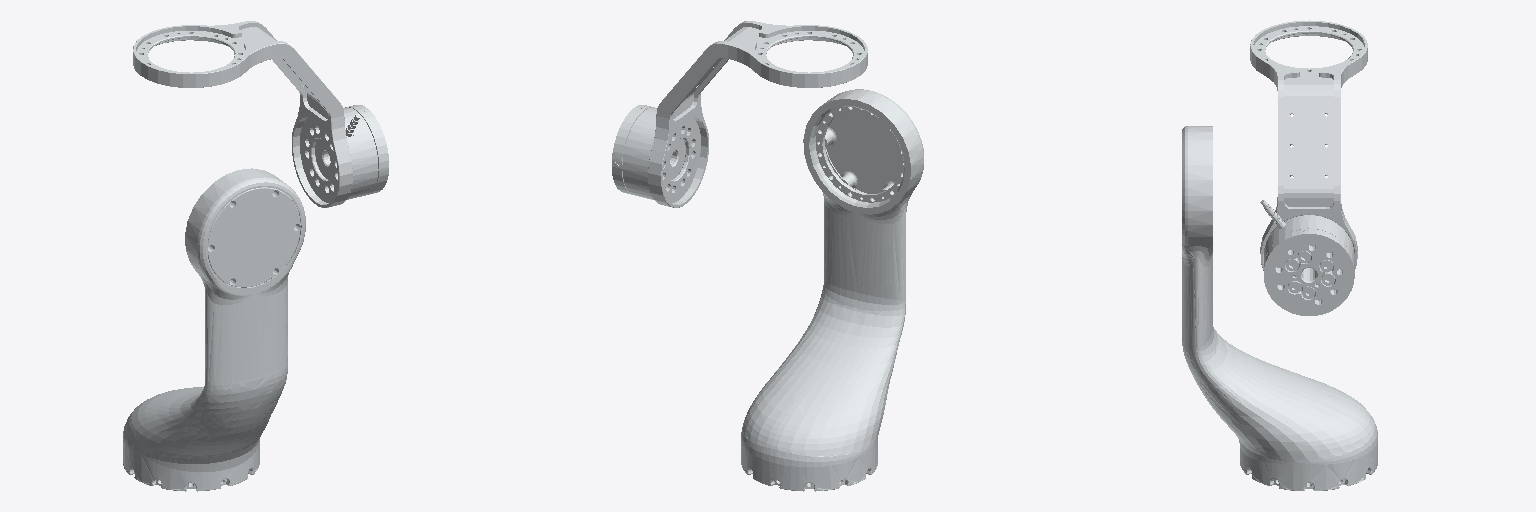
robot.urdf — armmodel:
<?xml version="1.0" encoding="utf-8"?>
<!-- This URDF was automatically created by SolidWorks to URDF Exporter! Originally created by [author] ([email redacted]) 
     Commit Version: 1.6.0-1-g15f4949  Build Version: 1.6.7594.29634
     For more information, please see http://wiki.ros.org/sw_urdf_exporter -->
<robot
  name="armmodel">
  <link
    name="base_link">
    <inertial>
      <origin
        xyz="6.6181E-05 -0.00015161 -0.19249"
        rpy="0 0 0" />
      <mass
        value="1.2116" />
      <inertia
        ixx="0.0019567"
        ixy="3.2695E-06"
        ixz="-6.4571E-07"
        iyy="0.0019617"
        iyz="-1.5111E-06"
        izz="0.0030011" />
    </inertial>
    <visual>
      <origin
        xyz="0 0 0"
        rpy="0 0 0" />
      <geometry>
        <mesh
          filename="package://armmodel/meshes/base_link.dae" />
      </geometry>
      <material
        name="">
        <color
          rgba="0.89804 0.91765 0.92941 1" />
      </material>
    </visual>
    <collision>
      <origin
        xyz="0 0 0"
        rpy="0 0 0" />
      <geometry>
        <mesh
          filename="package://armmodel/meshes/base_link.dae" />
      </geometry>
    </collision>
  </link>
  <link
    name="link1">
    <inertial>
      <origin
        xyz="7.2718E-05 -0.029092 -0.030082"
        rpy="0 0 0" />
      <mass
        value="1.3993" />
      <inertia
        ixx="0.0039418"
        ixy="-1.3252E-07"
        ixz="1.2424E-06"
        iyy="0.0042042"
        iyz="0.0010239"
        izz="0.0027112" />
    </inertial>
    <visual>
      <origin
        xyz="0 0 0"
        rpy="0 0 0" />
      <geometry>
        <mesh
          filename="package://armmodel/meshes/link1.dae" />
      </geometry>
      <material
        name="">
        <color
          rgba="0.89804 0.91765 0.92941 1" />
      </material>
    </visual>
    <collision>
      <origin
        xyz="0 0 0"
        rpy="0 0 0" />
      <geometry>
        <mesh
          filename="package://armmodel/meshes/link1.dae" />
      </geometry>
    </collision>
  </link>
  <joint
    name="armjoint1"
    type="revolute">
    <origin
      xyz="0 0 0"
      rpy="0 0 0" />
    <parent
      link="base_link" />
    <child
      link="link1" />
    <axis
      xyz="0 0 1" />
    <limit
      lower="-2.967"
      upper="2.967"
      effort="0"
      velocity="0" />
  </joint>
  <link
    name="link2">
    <inertial>
      <origin
        xyz="3.216E-05 0.11921 -0.01045"
        rpy="0 0 0" />
      <mass
        value="1.4639" />
      <inertia
        ixx="0.0063672"
        ixy="-4.7491E-07"
        ixz="7.5063E-07"
        iyy="0.0026746"
        iyz="-0.00050689"
        izz="0.0069259" />
    </inertial>
    <visual>
      <origin
        xyz="0 0 0"
        rpy="0 0 0" />
      <geometry>
        <mesh
          filename="package://armmodel/meshes/link2.dae" />
      </geometry>
      <material
        name="">
        <color
          rgba="0.89804 0.91765 0.92941 1" />
      </material>
    </visual>
    <collision>
      <origin
        xyz="0 0 0"
        rpy="0 0 0" />
      <geometry>
        <mesh
          filename="package://armmodel/meshes/link2.dae" />
      </geometry>
    </collision>
  </link>
  <joint
    name="armjoint2"
    type="revolute">
    <origin
      xyz="0 0 0"
      rpy="1.5708 0 0" />
    <parent
      link="link1" />
    <child
      link="link2" />
    <axis
      xyz="0 0 1" />
    <limit
      lower="-2.094"
      upper="2.094"
      effort="0"
      velocity="0" />
  </joint>
  <link
    name="link3">
    <inertial>
      <origin
        xyz="0.019368 -0.020584 -0.051775"
        rpy="0 0 0" />
      <mass
        value="1.1787" />
      <inertia
        ixx="0.005941"
        ixy="7.5907E-05"
        ixz="-0.00070134"
        iyy="0.0064945"
        iyz="0.00076789"
        izz="0.0019242" />
    </inertial>
    <visual>
      <origin
        xyz="0 0 0"
        rpy="0 0 0" />
      <geometry>
        <mesh
          filename="package://armmodel/meshes/link3.dae" />
      </geometry>
      <material
        name="">
        <color
          rgba="0.89804 0.91765 0.92941 1" />
      </material>
    </visual>
    <collision>
      <origin
        xyz="0 0 0"
        rpy="0 0 0" />
      <geometry>
        <mesh
          filename="package://armmodel/meshes/link3.dae" />
      </geometry>
    </collision>
  </link>
  <joint
    name="armjoint3"
    type="revolute">
    <origin
      xyz="0 0.4495 0"
      rpy="-1.5708 0 0" />
    <parent
      link="link2" />
    <child
      link="link3" />
    <axis
      xyz="0 0 1" />
    <limit
      lower="-2.967"
      upper="2.967"
      effort="0"
      velocity="0" />
  </joint>
  <link
    name="link4">
    <inertial>
      <origin
        xyz="-0.023047 0.13103 -0.017911"
        rpy="0 0 0" />
      <mass
        value="0.94956" />
      <inertia
        ixx="0.0051402"
        ixy="0.00052455"
        ixz="9.256E-05"
        iyy="0.0014794"
        iyz="-0.00088944"
        izz="0.0053194" />
    </inertial>
    <visual>
      <origin
        xyz="0 0 0"
        rpy="0 0 0" />
      <geometry>
        <mesh
          filename="package://armmodel/meshes/link4.dae" />
      </geometry>
      <material
        name="">
        <color
          rgba="0.89804 0.91765 0.92941 1" />
      </material>
    </visual>
    <collision>
      <origin
        xyz="0 0 0"
        rpy="0 0 0" />
      <geometry>
        <mesh
          filename="package://armmodel/meshes/link4.dae" />
      </geometry>
    </collision>
  </link>
  <joint
    name="armjoint4"
    type="revolute">
    <origin
      xyz="0.03 0 0"
      rpy="1.5708 0 0" />
    <parent
      link="link3" />
    <child
      link="link4" />
    <axis
      xyz="0 0 1" />
    <limit
      lower="-2.792"
      upper="2.094"
      effort="0"
      velocity="0" />
  </joint>
  <link
    name="link5">
    <inertial>
      <origin
        xyz="1.8693E-05 -0.041402 -0.10398"
        rpy="0 0 0" />
      <mass
        value="0.3347" />
      <inertia
        ixx="0.0018739"
        ixy="-4.1119E-08"
        ixz="1.694E-07"
        iyy="0.0016304"
        iyz="0.00057017"
        izz="0.00062971" />
    </inertial>
    <visual>
      <origin
        xyz="0 0 0"
        rpy="0 0 0" />
      <geometry>
        <mesh
          filename="package://armmodel/meshes/link5.dae" />
      </geometry>
      <material
        name="">
        <color
          rgba="0.89804 0.91765 0.92941 1" />
      </material>
    </visual>
    <collision>
      <origin
        xyz="0 0 0"
        rpy="0 0 0" />
      <geometry>
        <mesh
          filename="package://armmodel/meshes/link5.dae" />
      </geometry>
    </collision>
  </link>
  <joint
    name="armjoint5"
    type="revolute">
    <origin
      xyz="-0.03 0.4495 0"
      rpy="-1.5708 0 0" />
    <parent
      link="link4" />
    <child
      link="link5" />
    <axis
      xyz="0 0 1" />
    <limit
      lower="-2.967"
      upper="2.967"
      effort="0"
      velocity="0" />
  </joint>
  <link
    name="link6">
    <inertial>
      <origin
        xyz="0.00031073 0.011805 -0.00086368"
        rpy="0 0 0" />
      <mass
        value="0.94596" />
      <inertia
        ixx="0.0010467"
        ixy="4.7917E-06"
        ixz="-8.4956E-06"
        iyy="0.00080867"
        iyz="5.2641E-05"
        izz="0.0008319" />
    </inertial>
    <visual>
      <origin
        xyz="0 0 0"
        rpy="0 0 0" />
      <geometry>
        <mesh
          filename="package://armmodel/meshes/link6.dae" />
      </geometry>
      <material
        name="">
        <color
          rgba="1 1 1 1" />
      </material>
    </visual>
    <collision>
      <origin
        xyz="0 0 0"
        rpy="0 0 0" />
      <geometry>
        <mesh
          filename="package://armmodel/meshes/link6.dae" />
      </geometry>
    </collision>
  </link>
  <joint
    name="armjoint6"
    type="revolute">
    <origin
      xyz="0 0 0"
      rpy="1.5708 0 0" />
    <parent
      link="link5" />
    <child
      link="link6" />
    <axis
      xyz="0 0 1" />
    <limit
      lower="-2.181"
      upper="2.181"
      effort="0"
      velocity="0" />
  </joint>
  <link
    name="link7">
    <inertial>
      <origin
        xyz="-0.083613 3.7165E-05 0.03637"
        rpy="0 0 0" />
      <mass
        value="0.18598" />
      <inertia
        ixx="0.00023579"
        ixy="-4.8742E-08"
        ixz="-0.00012561"
        iyy="0.00035441"
        iyz="-2.3106E-07"
        izz="0.00021991" />
    </inertial>
    <visual>
      <origin
        xyz="0 0 0"
        rpy="3.1416 0 0" />
      <geometry>
        <mesh
          filename="package://armmodel/meshes/link7.dae" />
      </geometry>
      <material
        name="">
        <color
          rgba="0.89804 0.91765 0.92941 1" />
      </material>
    </visual>
    <collision>
      <origin
        xyz="0 0 0"
        rpy="0 0 0" />
      <geometry>
        <mesh
          filename="package://armmodel/meshes/link7.dae" />
      </geometry>
    </collision>
  </link>
  <joint
    name="armjoint7"
    type="revolute">
    <origin
      xyz="0 0 0"
      rpy="-1.5708 0 3.1416" />
    <parent
      link="link6" />
    <child
      link="link7" />
    <axis
      xyz="0 0 -1" />
    <limit
      lower="-2.967"
      upper="2.967"
      effort="0"
      velocity="0" />
  </joint>
</robot>

--- Facts derived from the render (not from the file) ---
3 views of the same robot in one strip: view 1: azimuth 30°, elevation 25°; view 2: azimuth 150°, elevation 25°; view 3: azimuth 270°, elevation 25° (orthographic).
Robot: armmodel — 8 links, 7 joints (7 revolute); root link base_link; default pose: every joint at zero.
Visible links, largest first — view 1: link5, link7; view 2: link5, link7; view 3: link5, link7.
Boxes of the visible links, x1,y1,x2,y2 form: link5: (123,168,305,491); link7: (133,21,388,207); link5: (741,89,923,491); link7: (612,21,867,207); link5: (1182,126,1377,490); link7: (1250,20,1367,315).
Bounding box of the posed robot: 0.174 × 0.125 × 0.2925 m (x, y, z).
2 mesh visuals loaded from 8 distinct referenced files (2 Collada DAE); not drawn: 6 (reference not matched to a file when rendering).